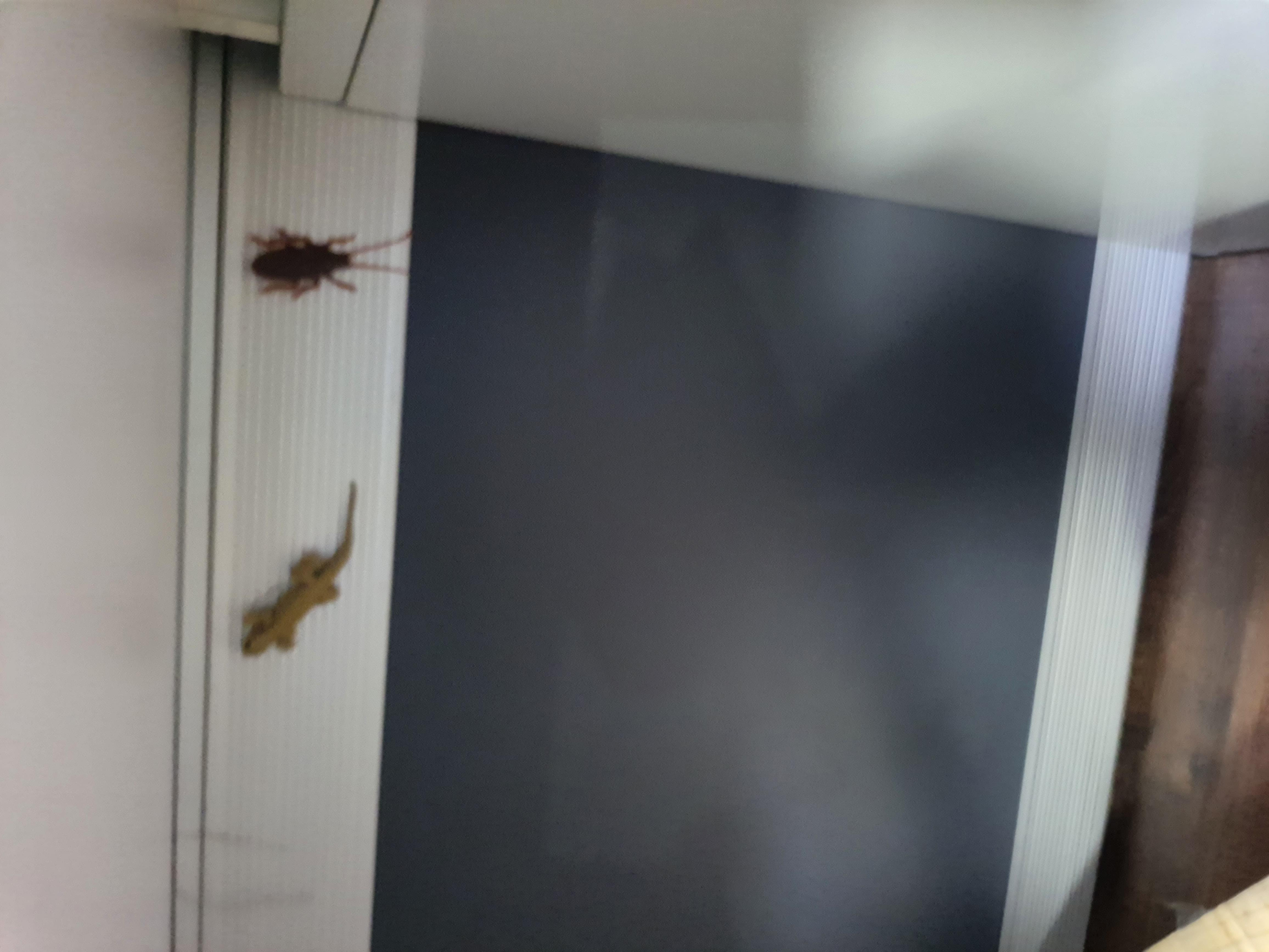cockroach: (853, 175, 987, 310)
lizard: (363, 153, 636, 274)
